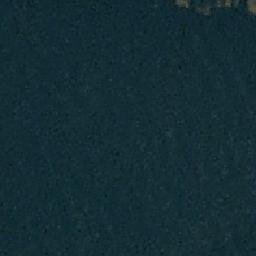debris: (169, 1, 256, 14)
